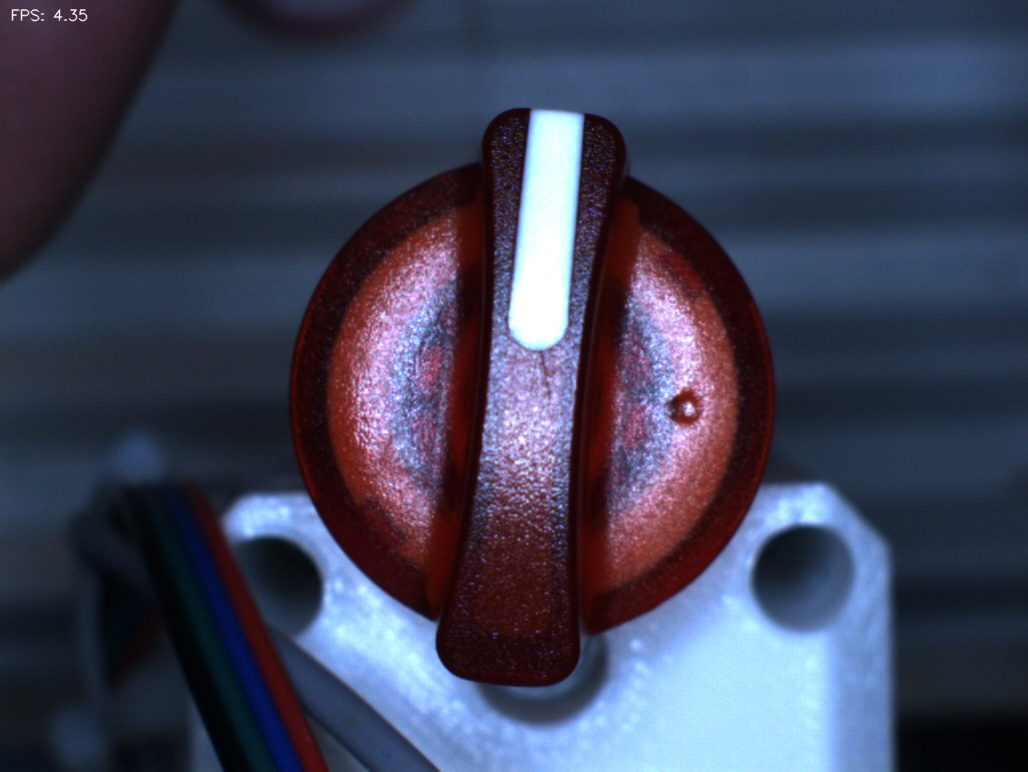Choc: (649, 367, 727, 445)
